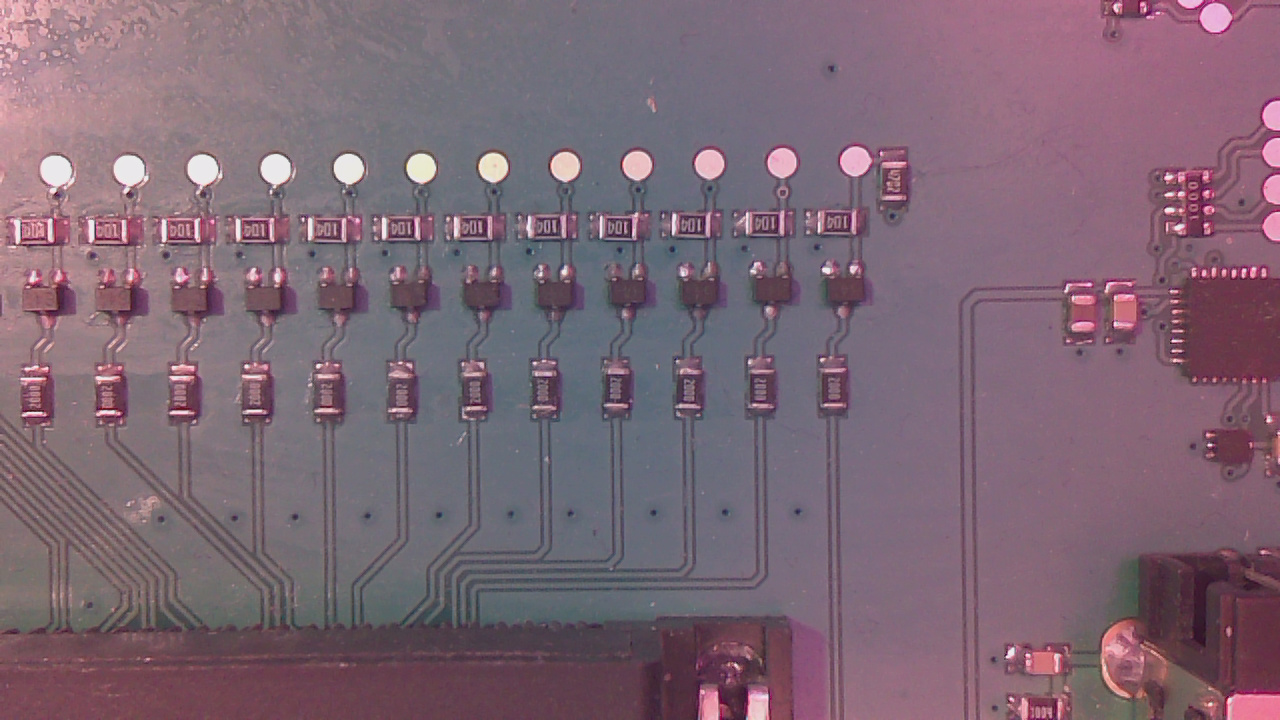Condensator: (1070, 296, 1100, 339), (1027, 652, 1068, 682), (1117, 298, 1145, 340)
Resistor: (172, 378, 206, 425), (883, 164, 916, 212), (606, 370, 639, 418), (99, 378, 130, 426), (822, 370, 855, 415), (319, 376, 353, 419), (244, 376, 275, 423), (25, 380, 58, 423), (752, 373, 784, 417), (465, 376, 496, 421), (533, 372, 563, 418), (680, 372, 710, 418), (674, 214, 721, 243), (391, 375, 421, 420), (602, 216, 644, 248), (819, 213, 865, 241), (458, 217, 500, 247), (238, 220, 283, 248), (92, 221, 134, 250), (312, 221, 355, 249), (17, 223, 63, 249), (385, 221, 428, 248), (751, 216, 791, 245), (165, 222, 207, 249), (531, 220, 576, 245), (1023, 699, 1068, 720)
Transistor: (394, 270, 439, 327), (827, 266, 872, 322), (682, 268, 727, 324), (176, 276, 219, 333), (28, 275, 73, 329), (755, 265, 798, 321), (611, 270, 652, 326), (537, 272, 579, 326), (468, 270, 509, 325), (249, 275, 290, 330), (324, 273, 365, 327), (100, 276, 141, 327)
